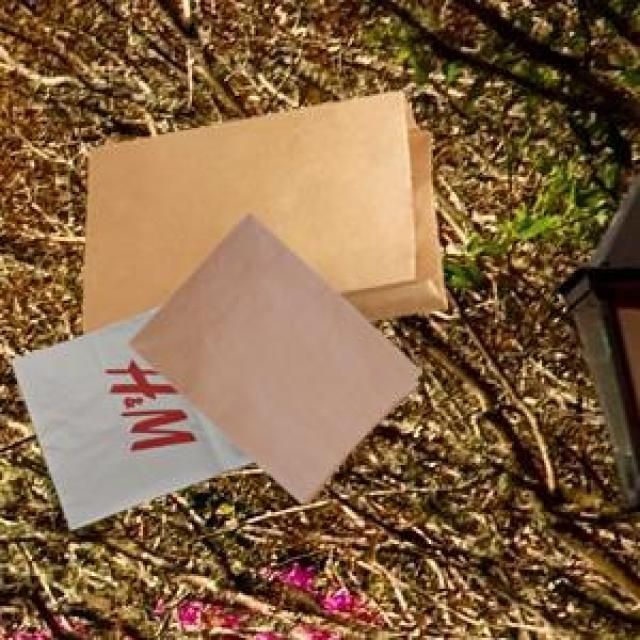paper: (79, 88, 443, 329), (124, 209, 418, 499), (9, 303, 252, 525)
